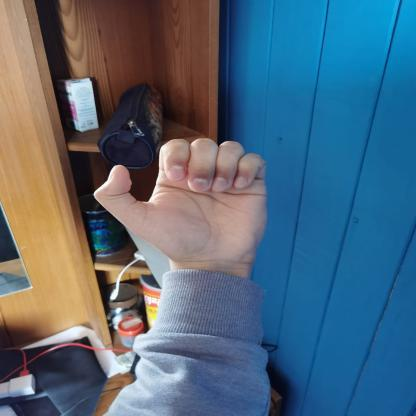E: (84, 135, 289, 284)
